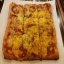pizza: (6, 2, 58, 58)
